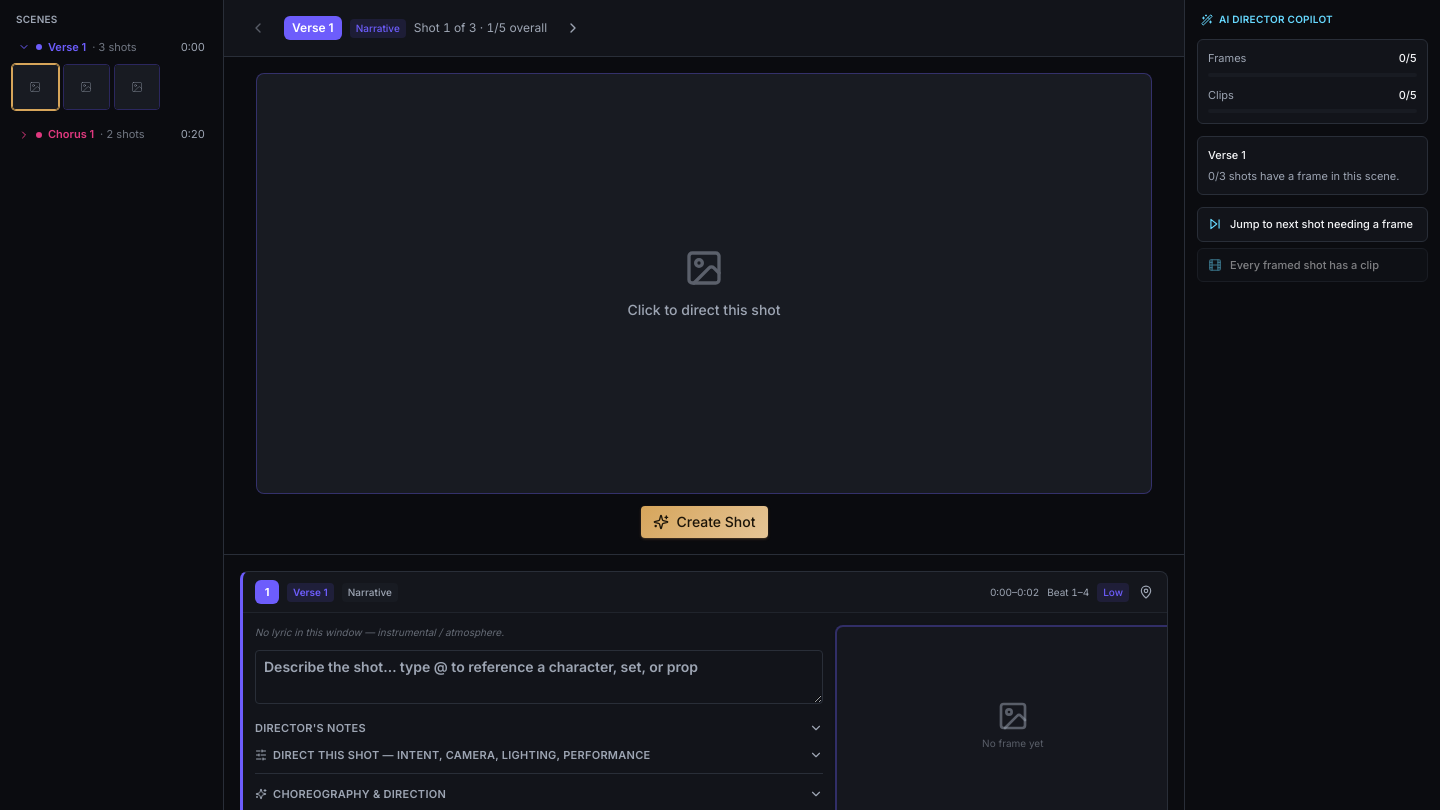
Test: DirectConsole scene rail › toggles a section open and closed on click, independent of selection
Click the button "Chorus 1 · 2 shots 0:20": point(112, 135) [12,122,211,147]
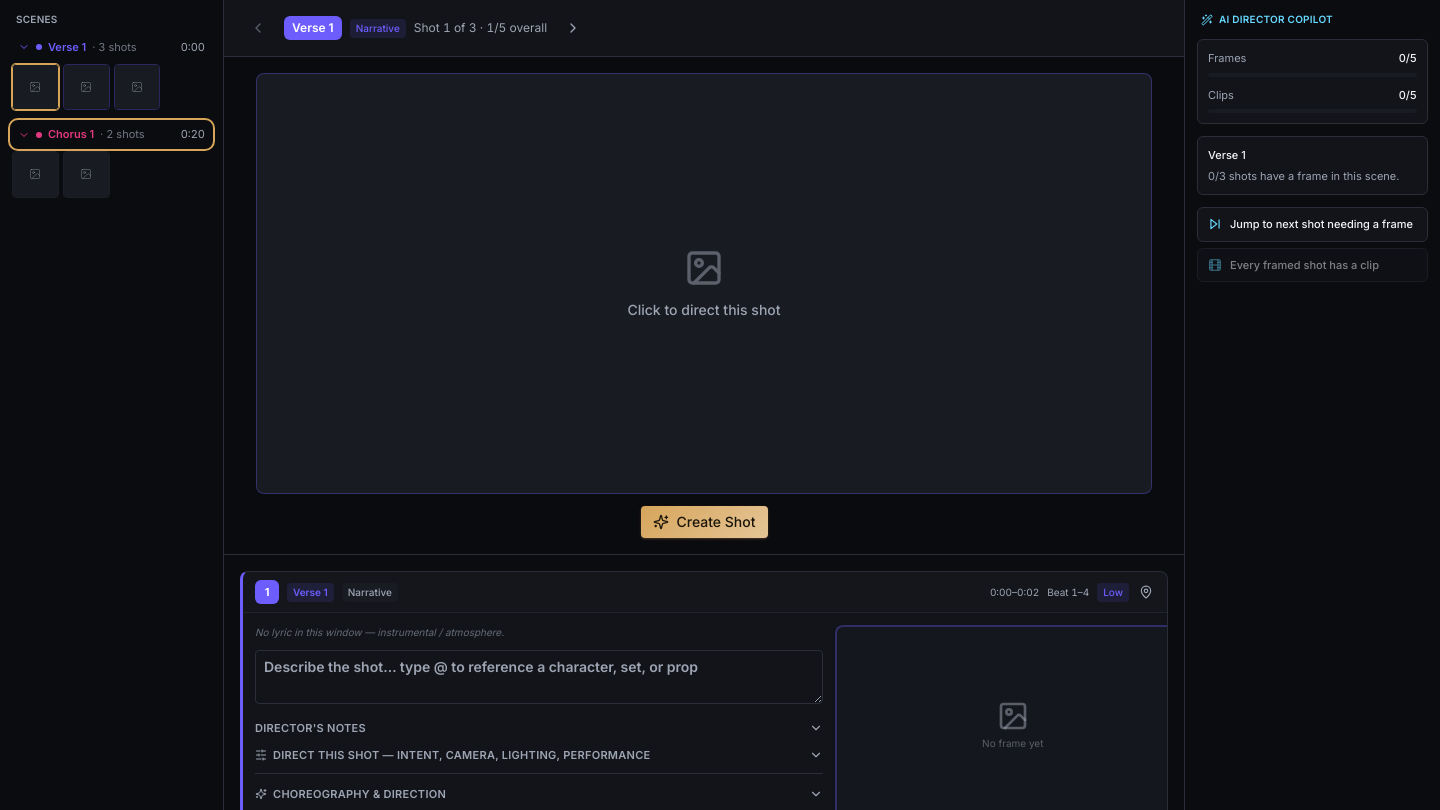
expect the button "Chorus 1 · 2 shots 0:20" is expanded: met
Click the button "Chorus 1 · 2 shots 0:20": point(112, 135) [12,122,211,147]
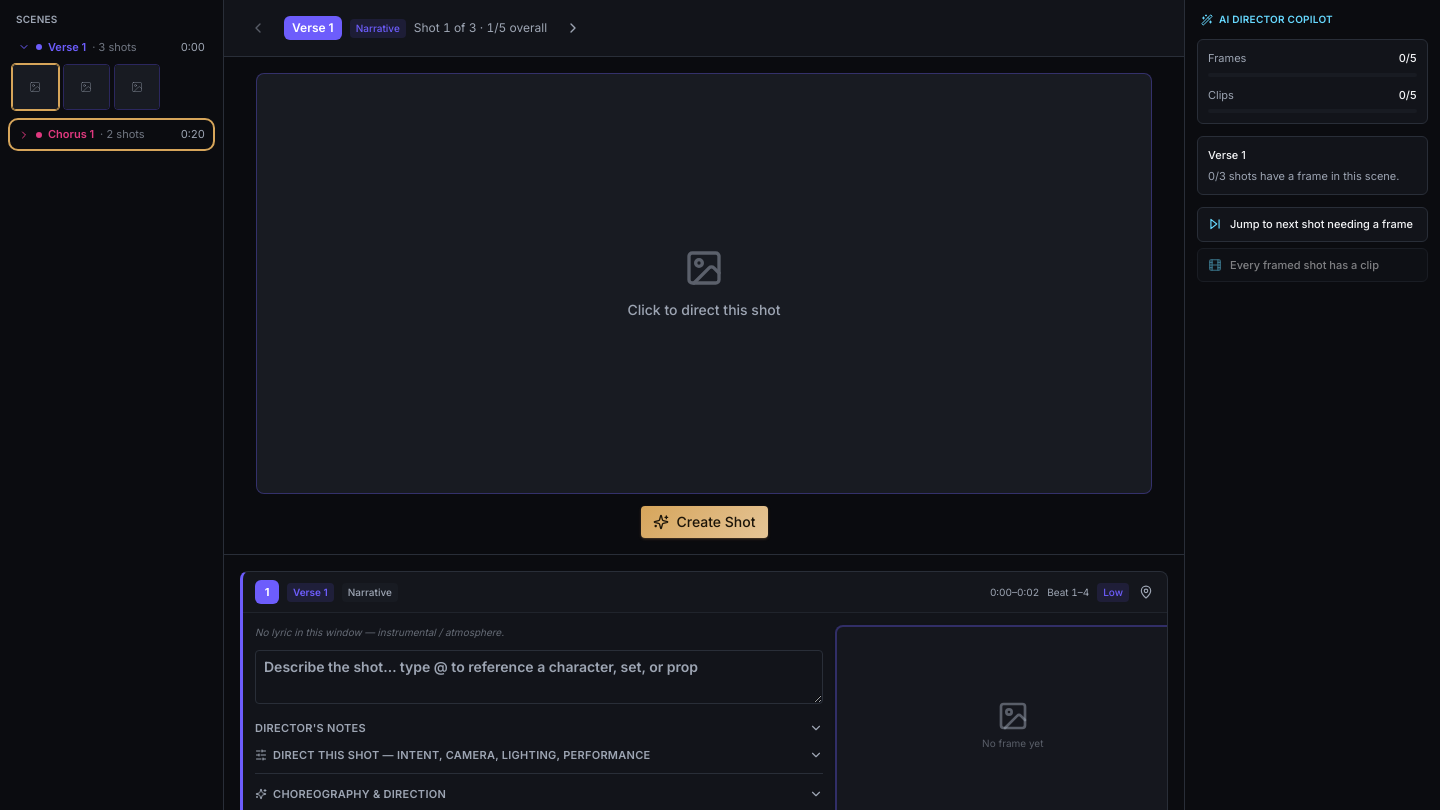
expect the button "Chorus 1 · 2 shots 0:20" is collapsed: met, box [12,122,211,147]
